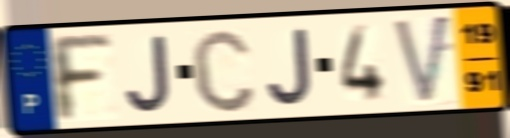4: (338, 23, 388, 103)
C: (188, 25, 259, 116)
F: (44, 33, 116, 125)
J: (122, 33, 174, 116), (264, 25, 315, 109)
V: (390, 11, 453, 108)
